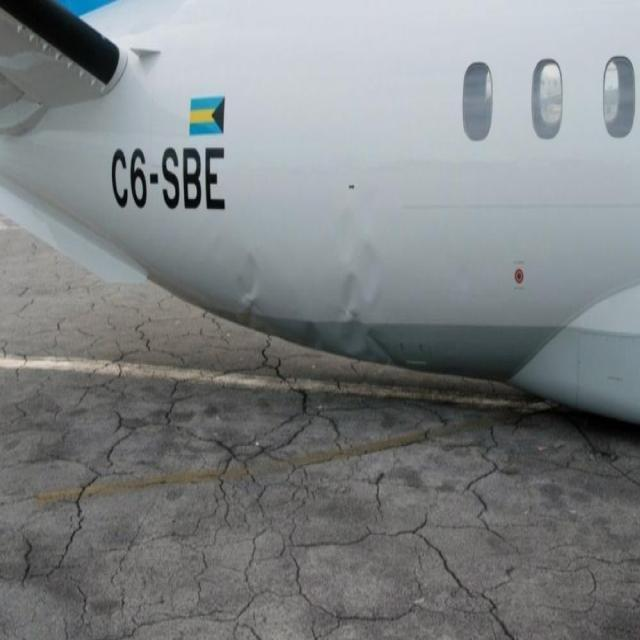dent: (334, 193, 388, 359), (230, 251, 268, 336)
